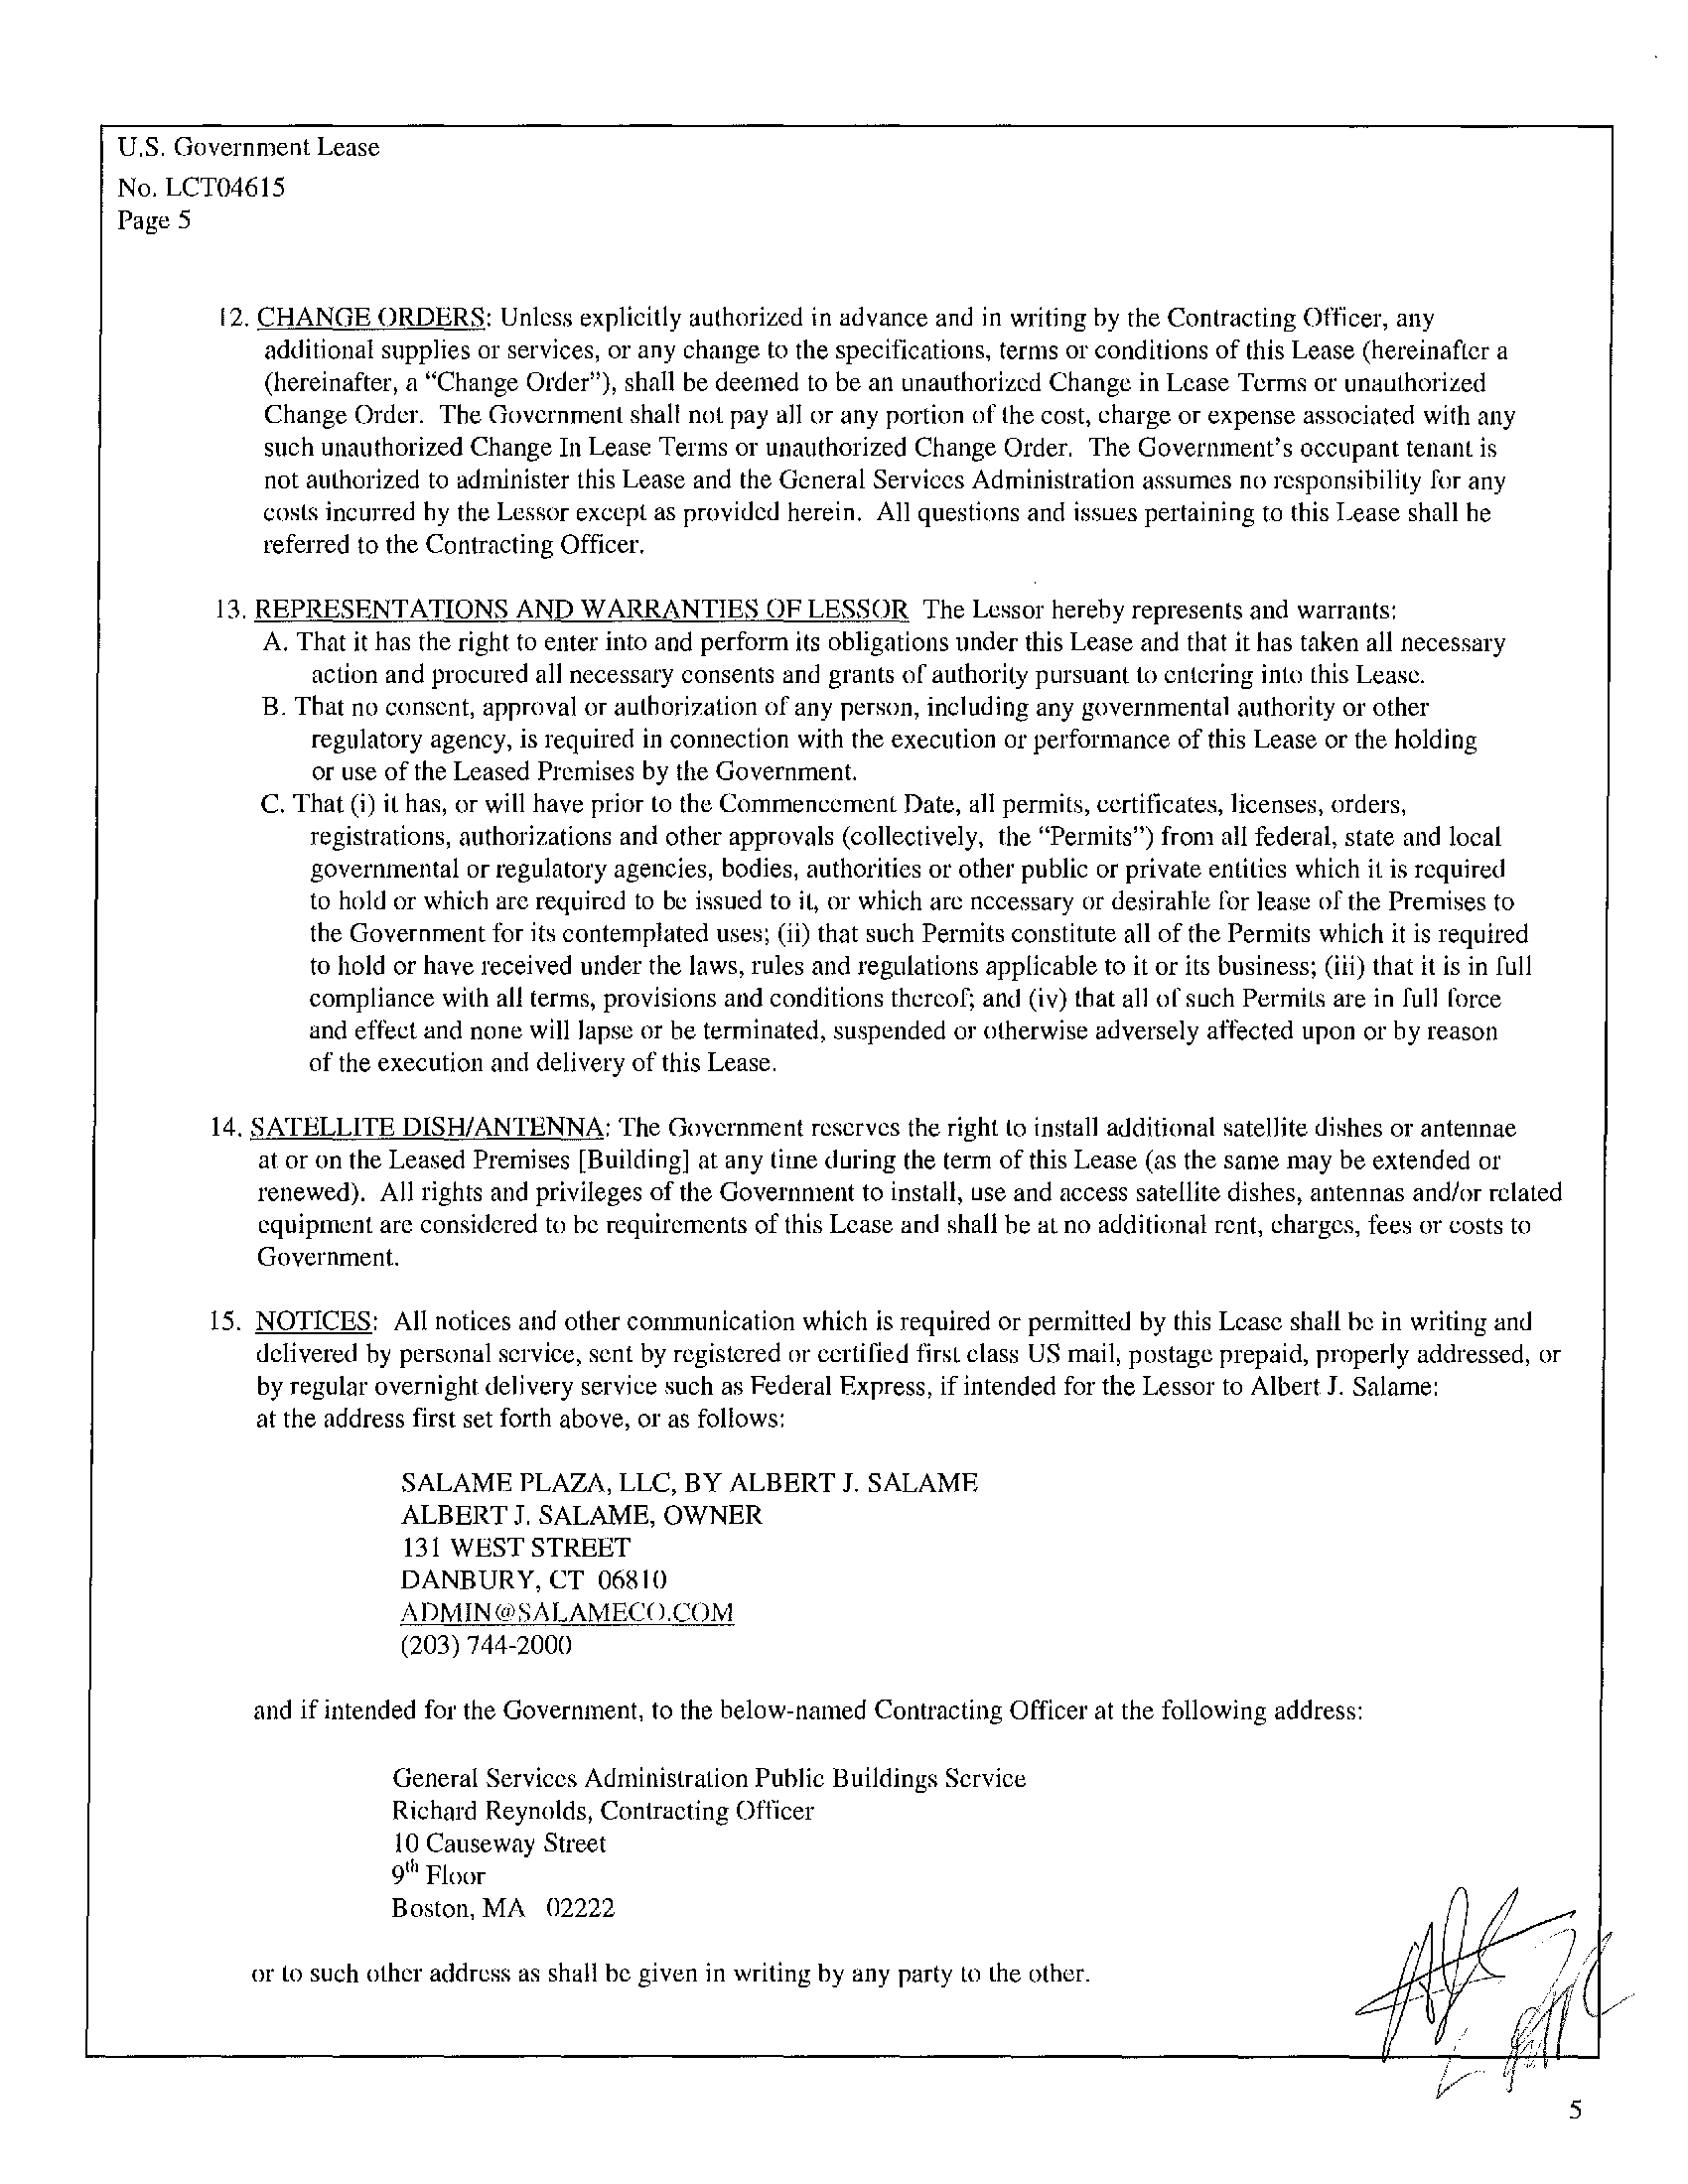handwritten: (1340, 1876, 1631, 2095)
